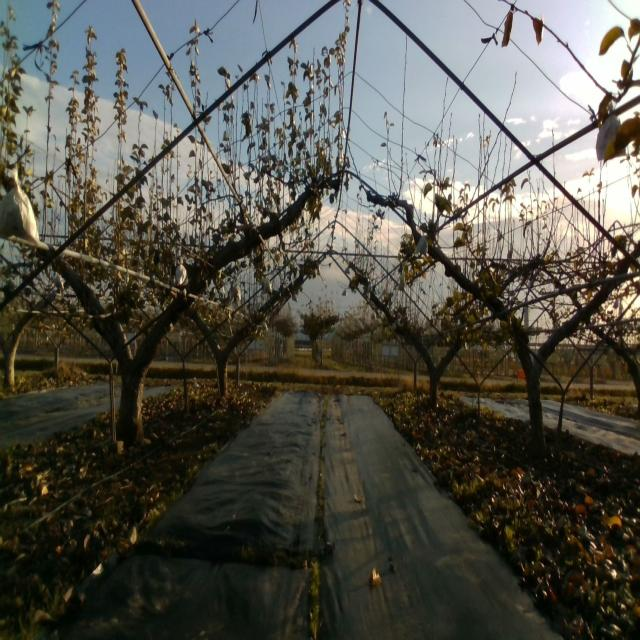pearbags: (0, 164, 41, 244), (594, 92, 622, 160), (175, 260, 189, 285), (414, 235, 429, 258), (230, 284, 241, 302)
